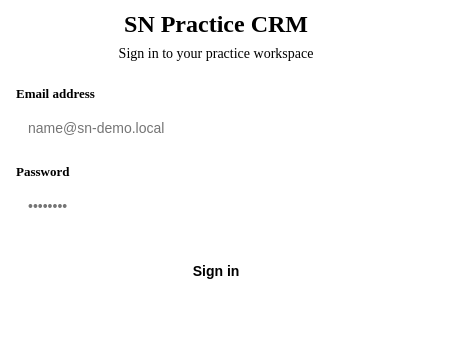
SignInGate Component › TC-SIG-03: Renders accessible error banner (role="alert") when onSignIn rejects
Type "test@sn-demo.local" into the field labelled "Email address". click: (228, 128)
box: [16,108,440,148]
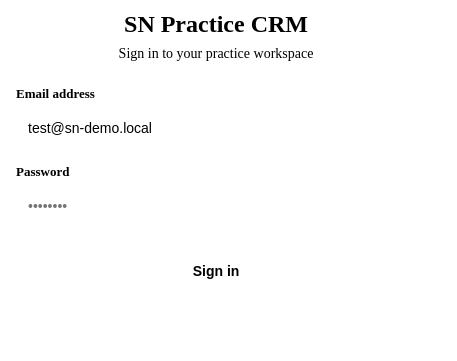
Type "wrong-pass" into the password field labelled "Password". click: (228, 206)
box: [16,186,440,226]
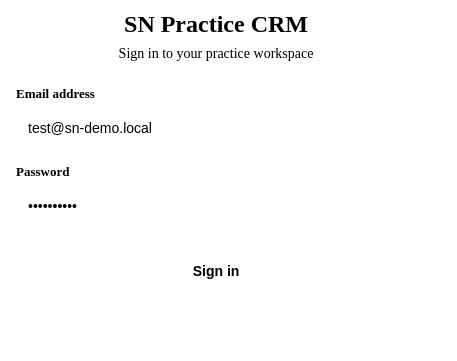
Click the button "Sign in". click: (216, 271)
box: [16,250,416,292]
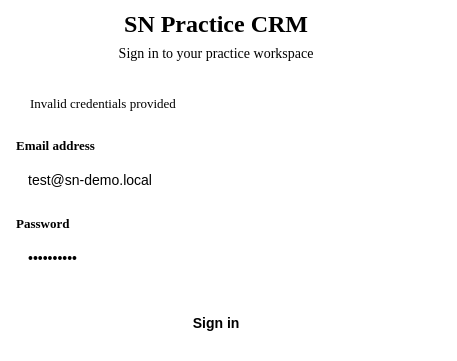
Expected: the button "Sign in" is enabled, [16,302,416,344]
Expected: the message reads "Invalid credentials provided", [30,96,176,111]
